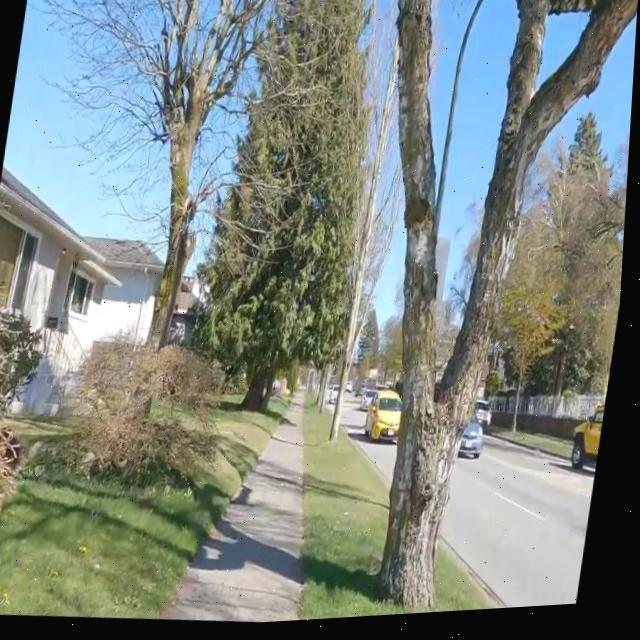Automobile: (577, 412, 609, 476), (371, 395, 406, 445), (464, 425, 489, 462), (480, 404, 495, 435)
Road: (448, 441, 600, 615), (348, 403, 401, 486)
Sidewalk: (172, 397, 310, 625)
